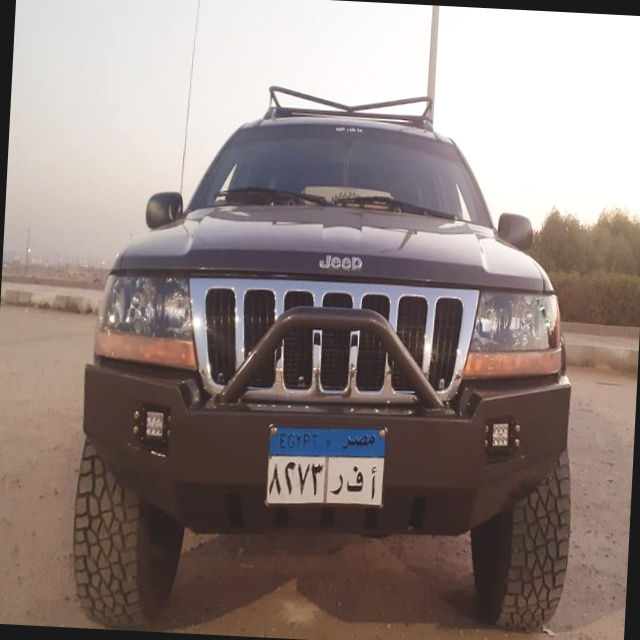License Plate: (263, 419, 391, 512)
